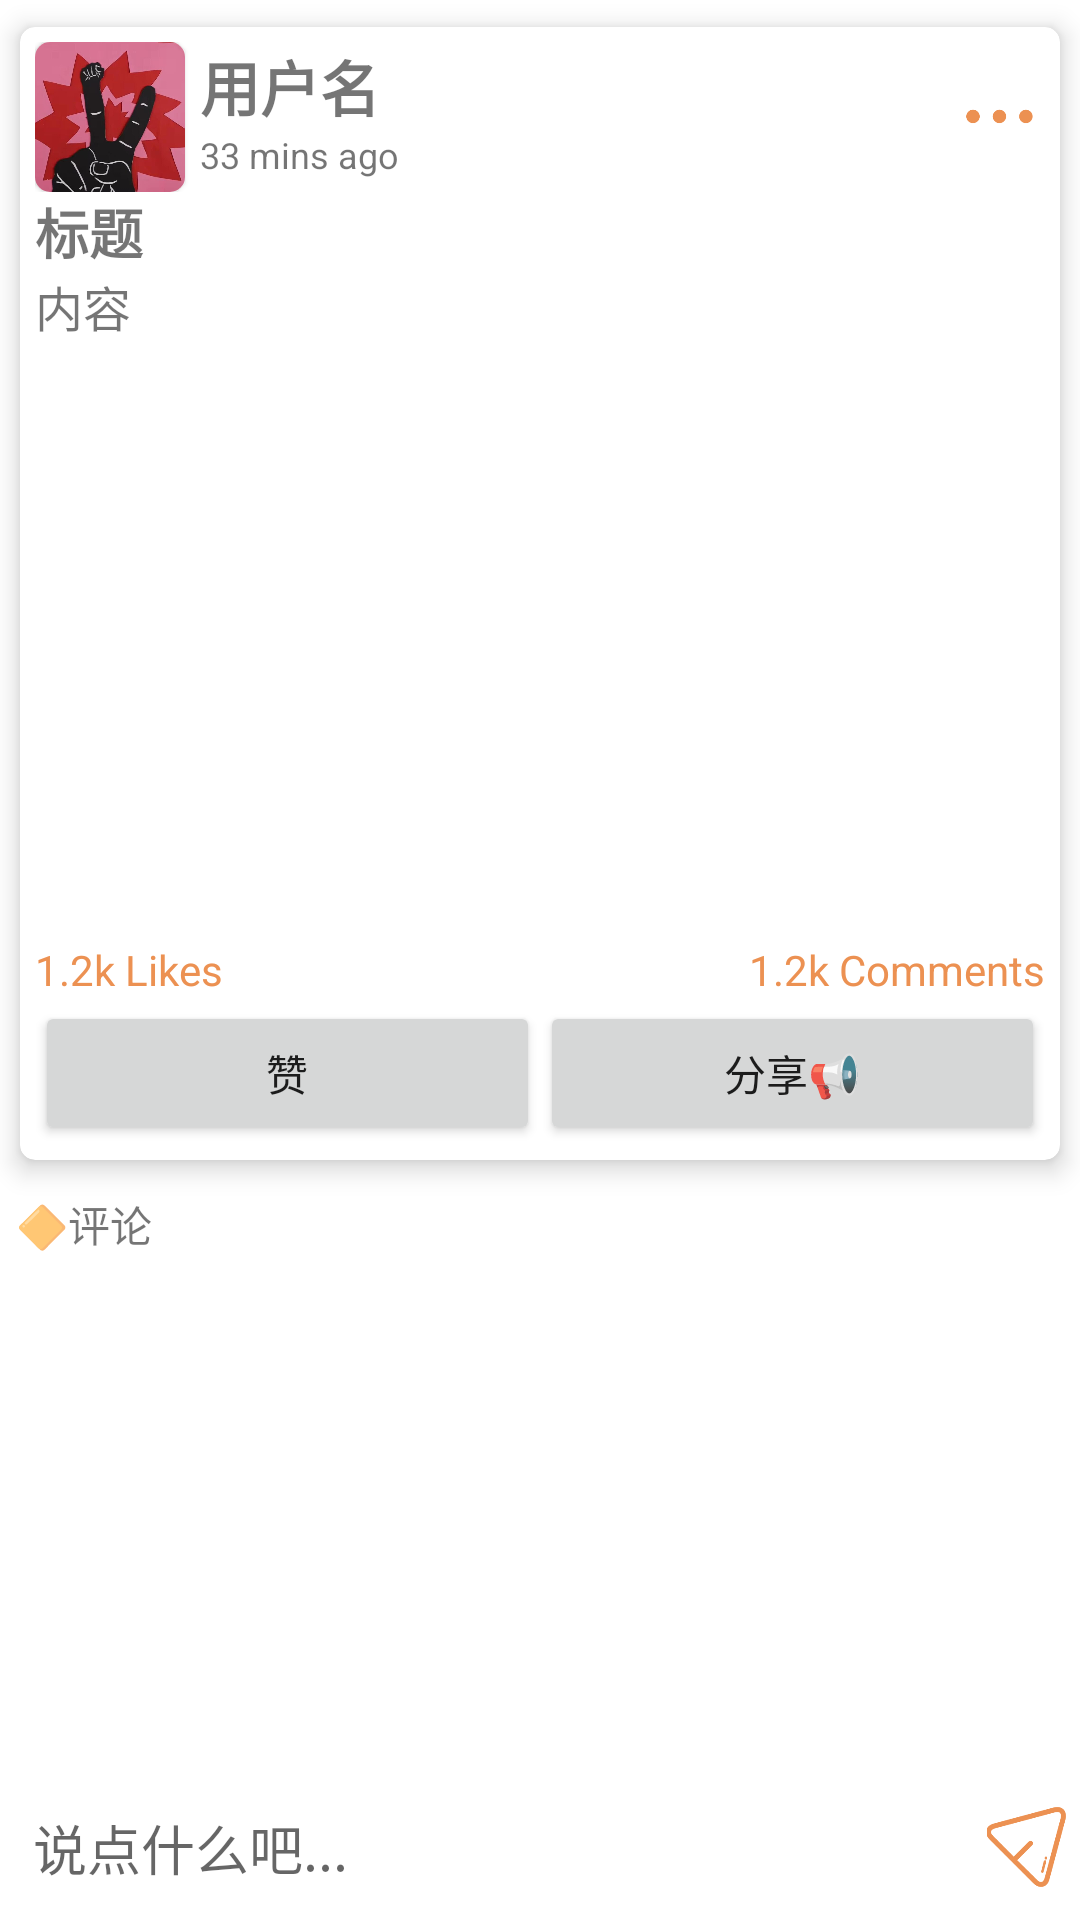

Named icons in this screenshot (1080px×1920px) and their centers, point (x, y):
more: point (999, 116)
send: point (1026, 1847)
